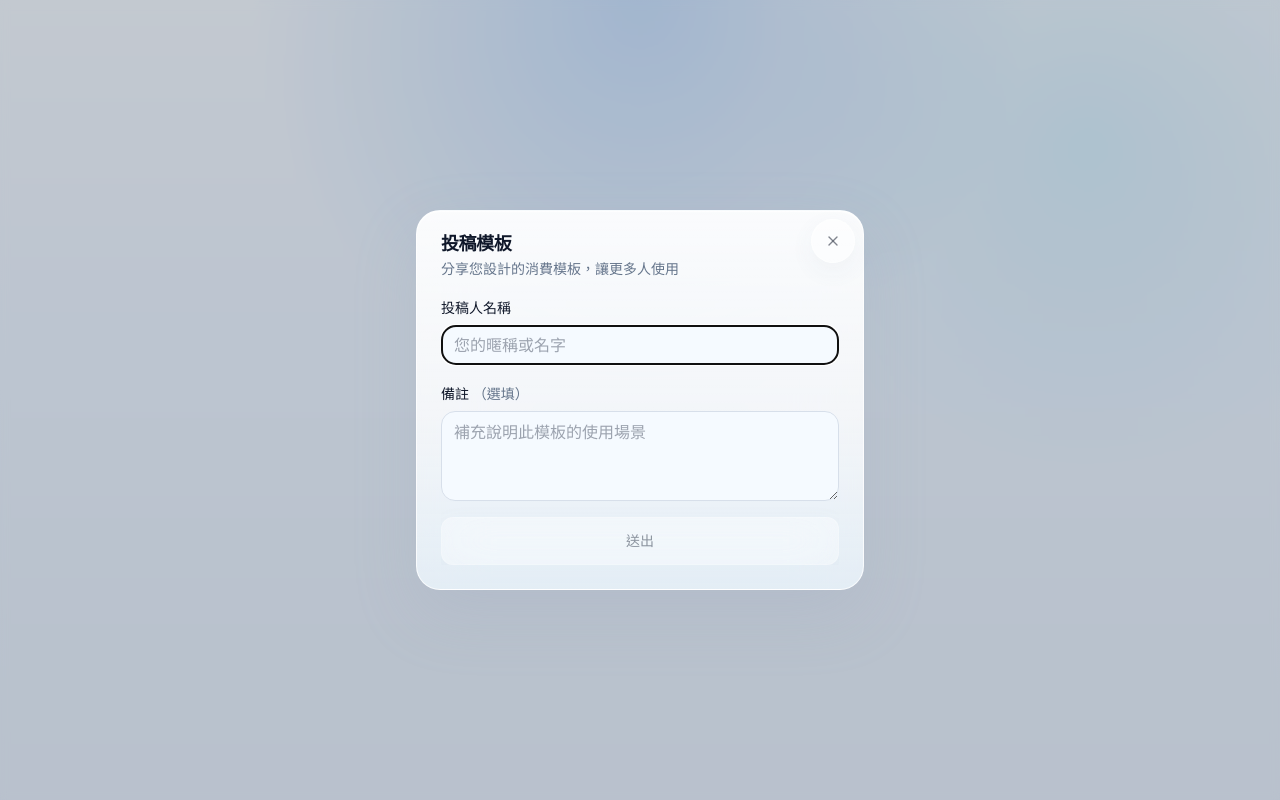
Test: TemplateSubmitModal › 錯誤處理 › fetch 失敗 → 顯示網路錯誤
Type "小明" into the field labelled "投稿人名稱" at (640, 345), box [441, 325, 839, 365]
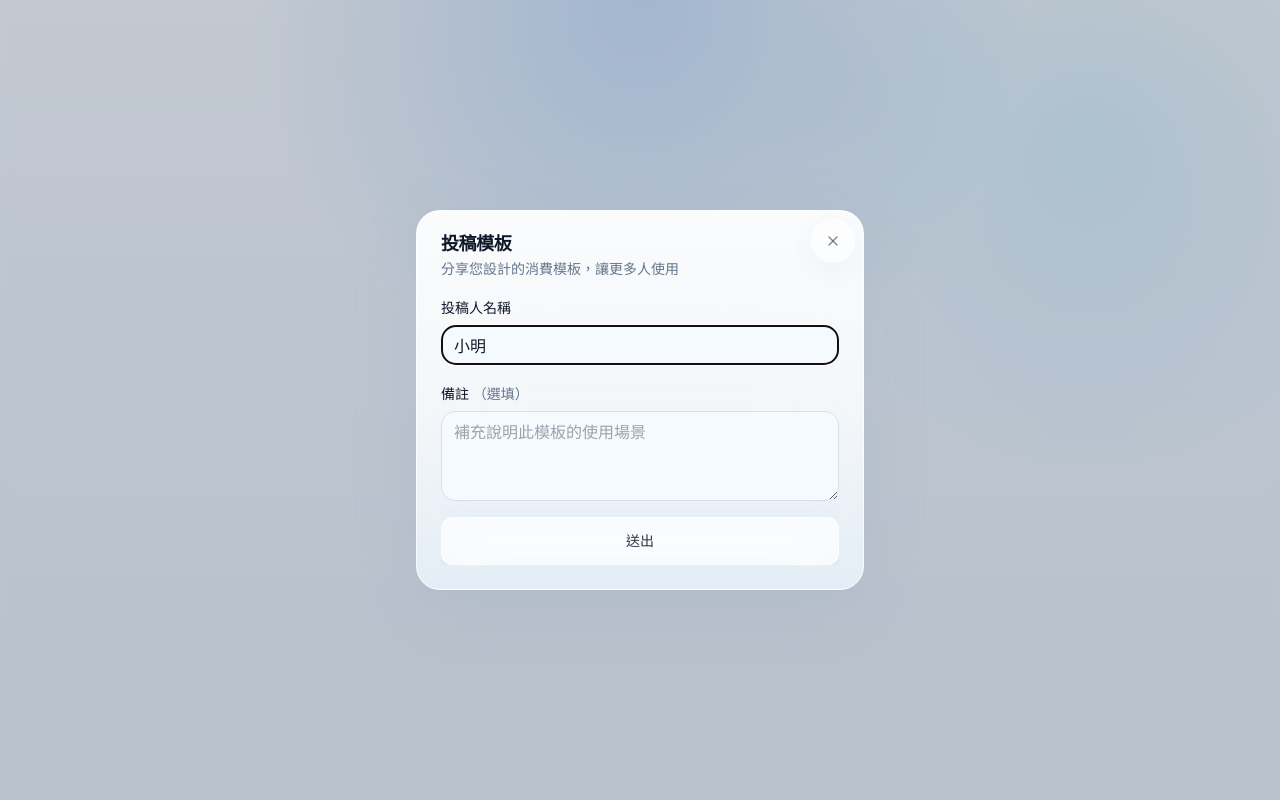
Click the button "送出" at (640, 541), box [441, 517, 839, 565]
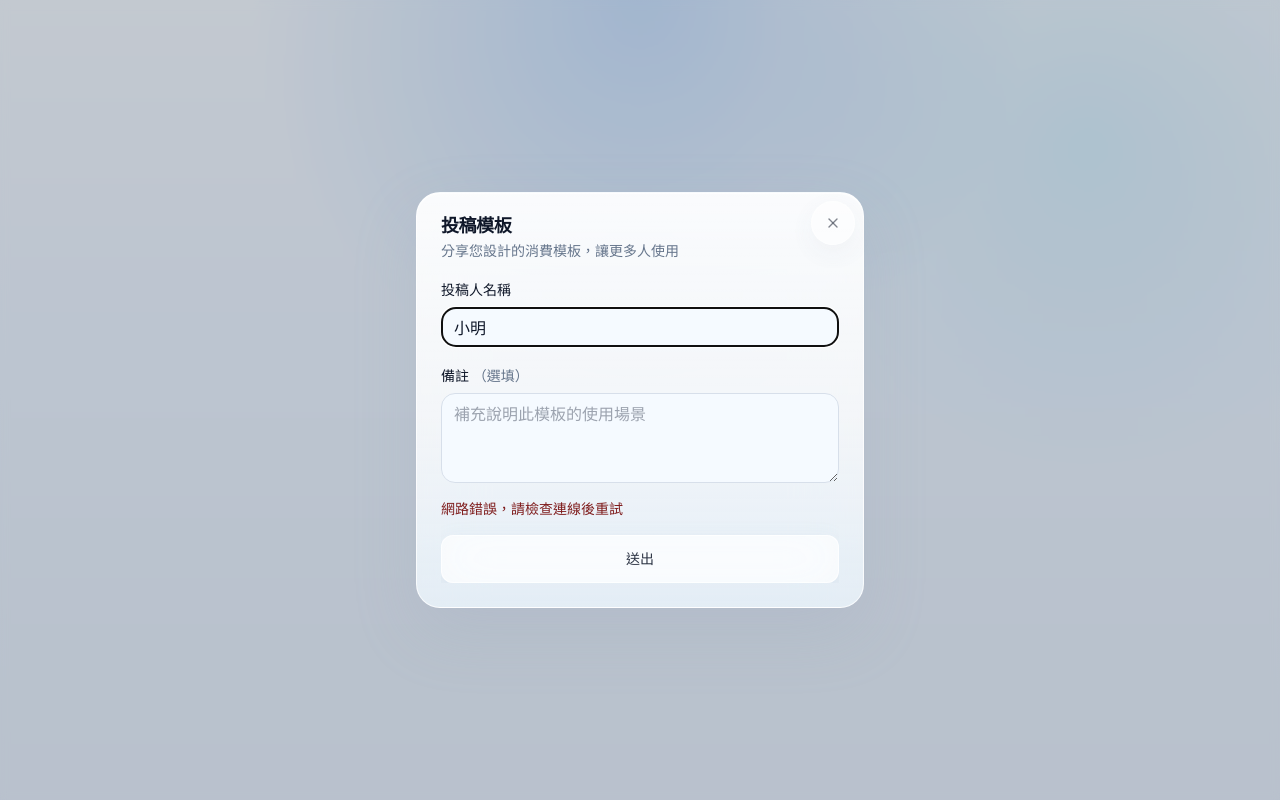
Expected: the text "網路錯誤，請檢查連線後重試" is shown, [441, 500, 623, 517]
